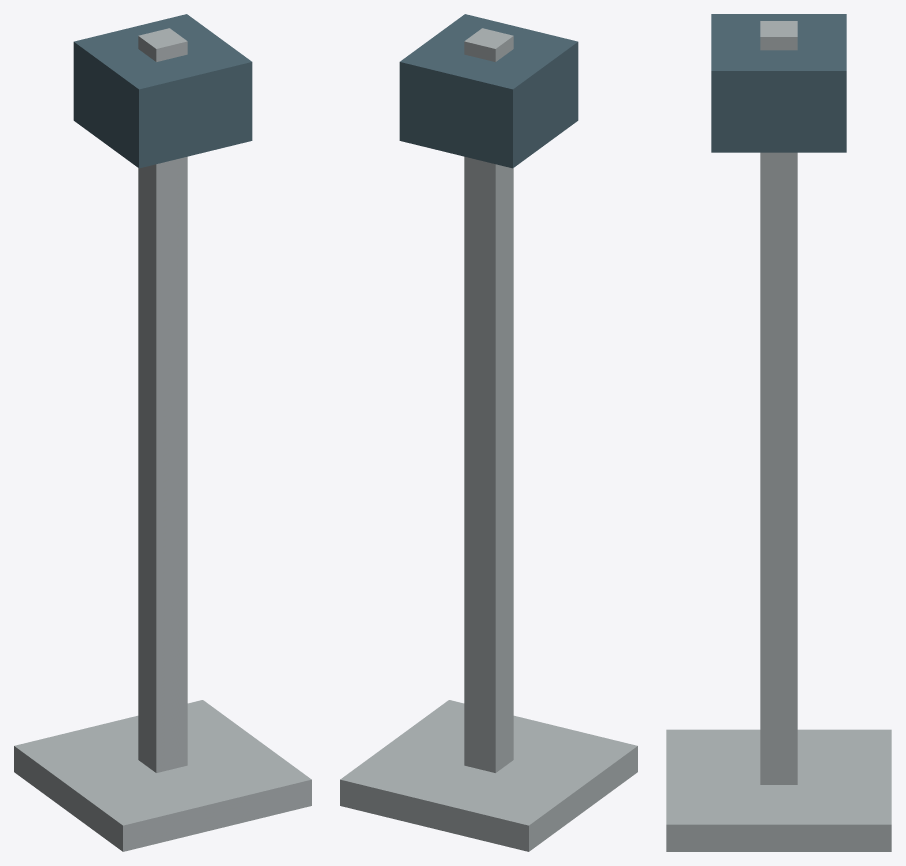
File: grand-prix-circuit-and-open-wheel-speed-trap-f8b17baf__15239.glb
The picture shows the model from 3 angles, left to right: view 1: azimuth 30°, elevation 25°; view 2: azimuth 150°, elevation 25°; view 3: azimuth 270°, elevation 25°; orthographic projection. The views are drawn at different scales.
Visible parts, largest first — view 1: speed-trap; view 2: speed-trap; view 3: speed-trap.
Part boxes in pixels (bbox=[...]): speed-trap: bbox=[14, 14, 311, 851]; speed-trap: bbox=[340, 14, 637, 851]; speed-trap: bbox=[666, 14, 891, 851].
Bounding box in the file's own units: 0.3001 × 1.14 × 0.3001.
